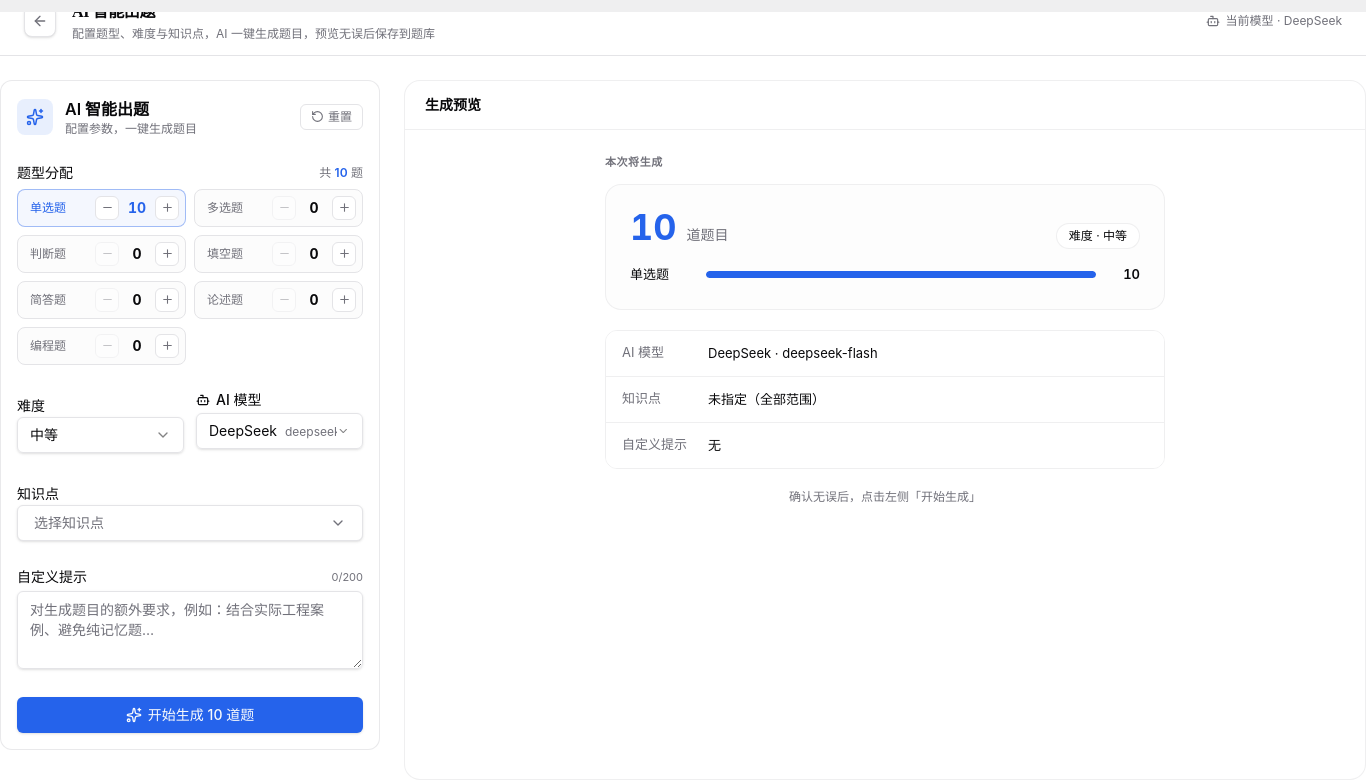
Test: AIGeneratePage unsaved guards › warns before browser unload when generated questions have not been saved
Step 1. Click the button "开始生成 10 道题" → click(190, 715), box [17, 697, 363, 733]
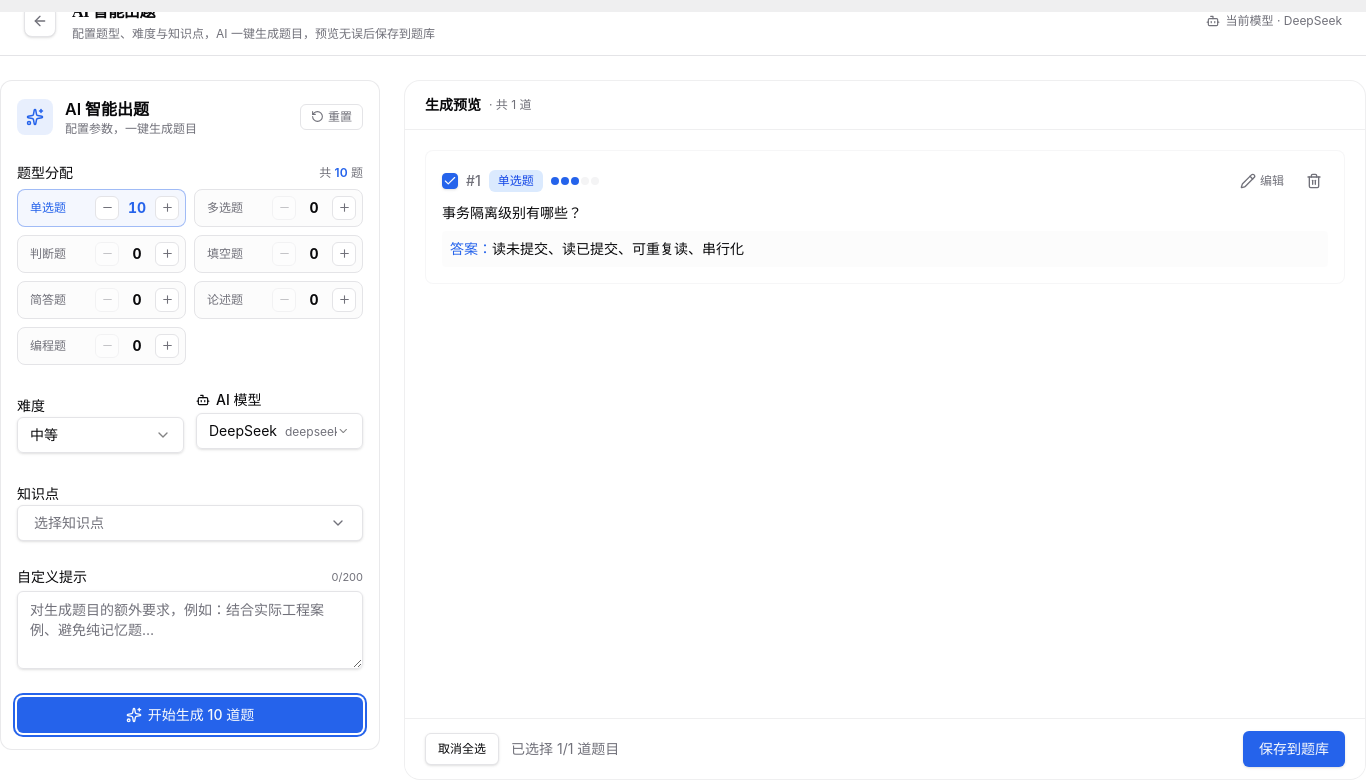
Check: the text "事务隔离级别有哪些？" is shown, box [442, 204, 582, 220]
